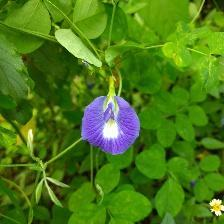shankupushpam: (79, 94, 145, 159)
